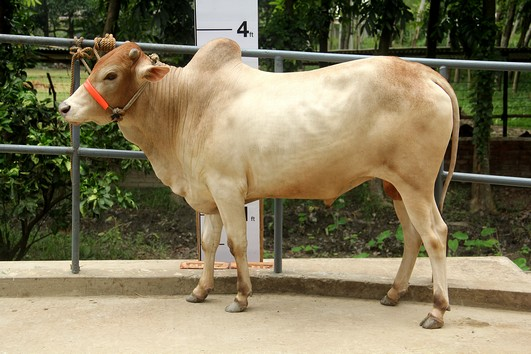cow: (53, 33, 461, 327)
